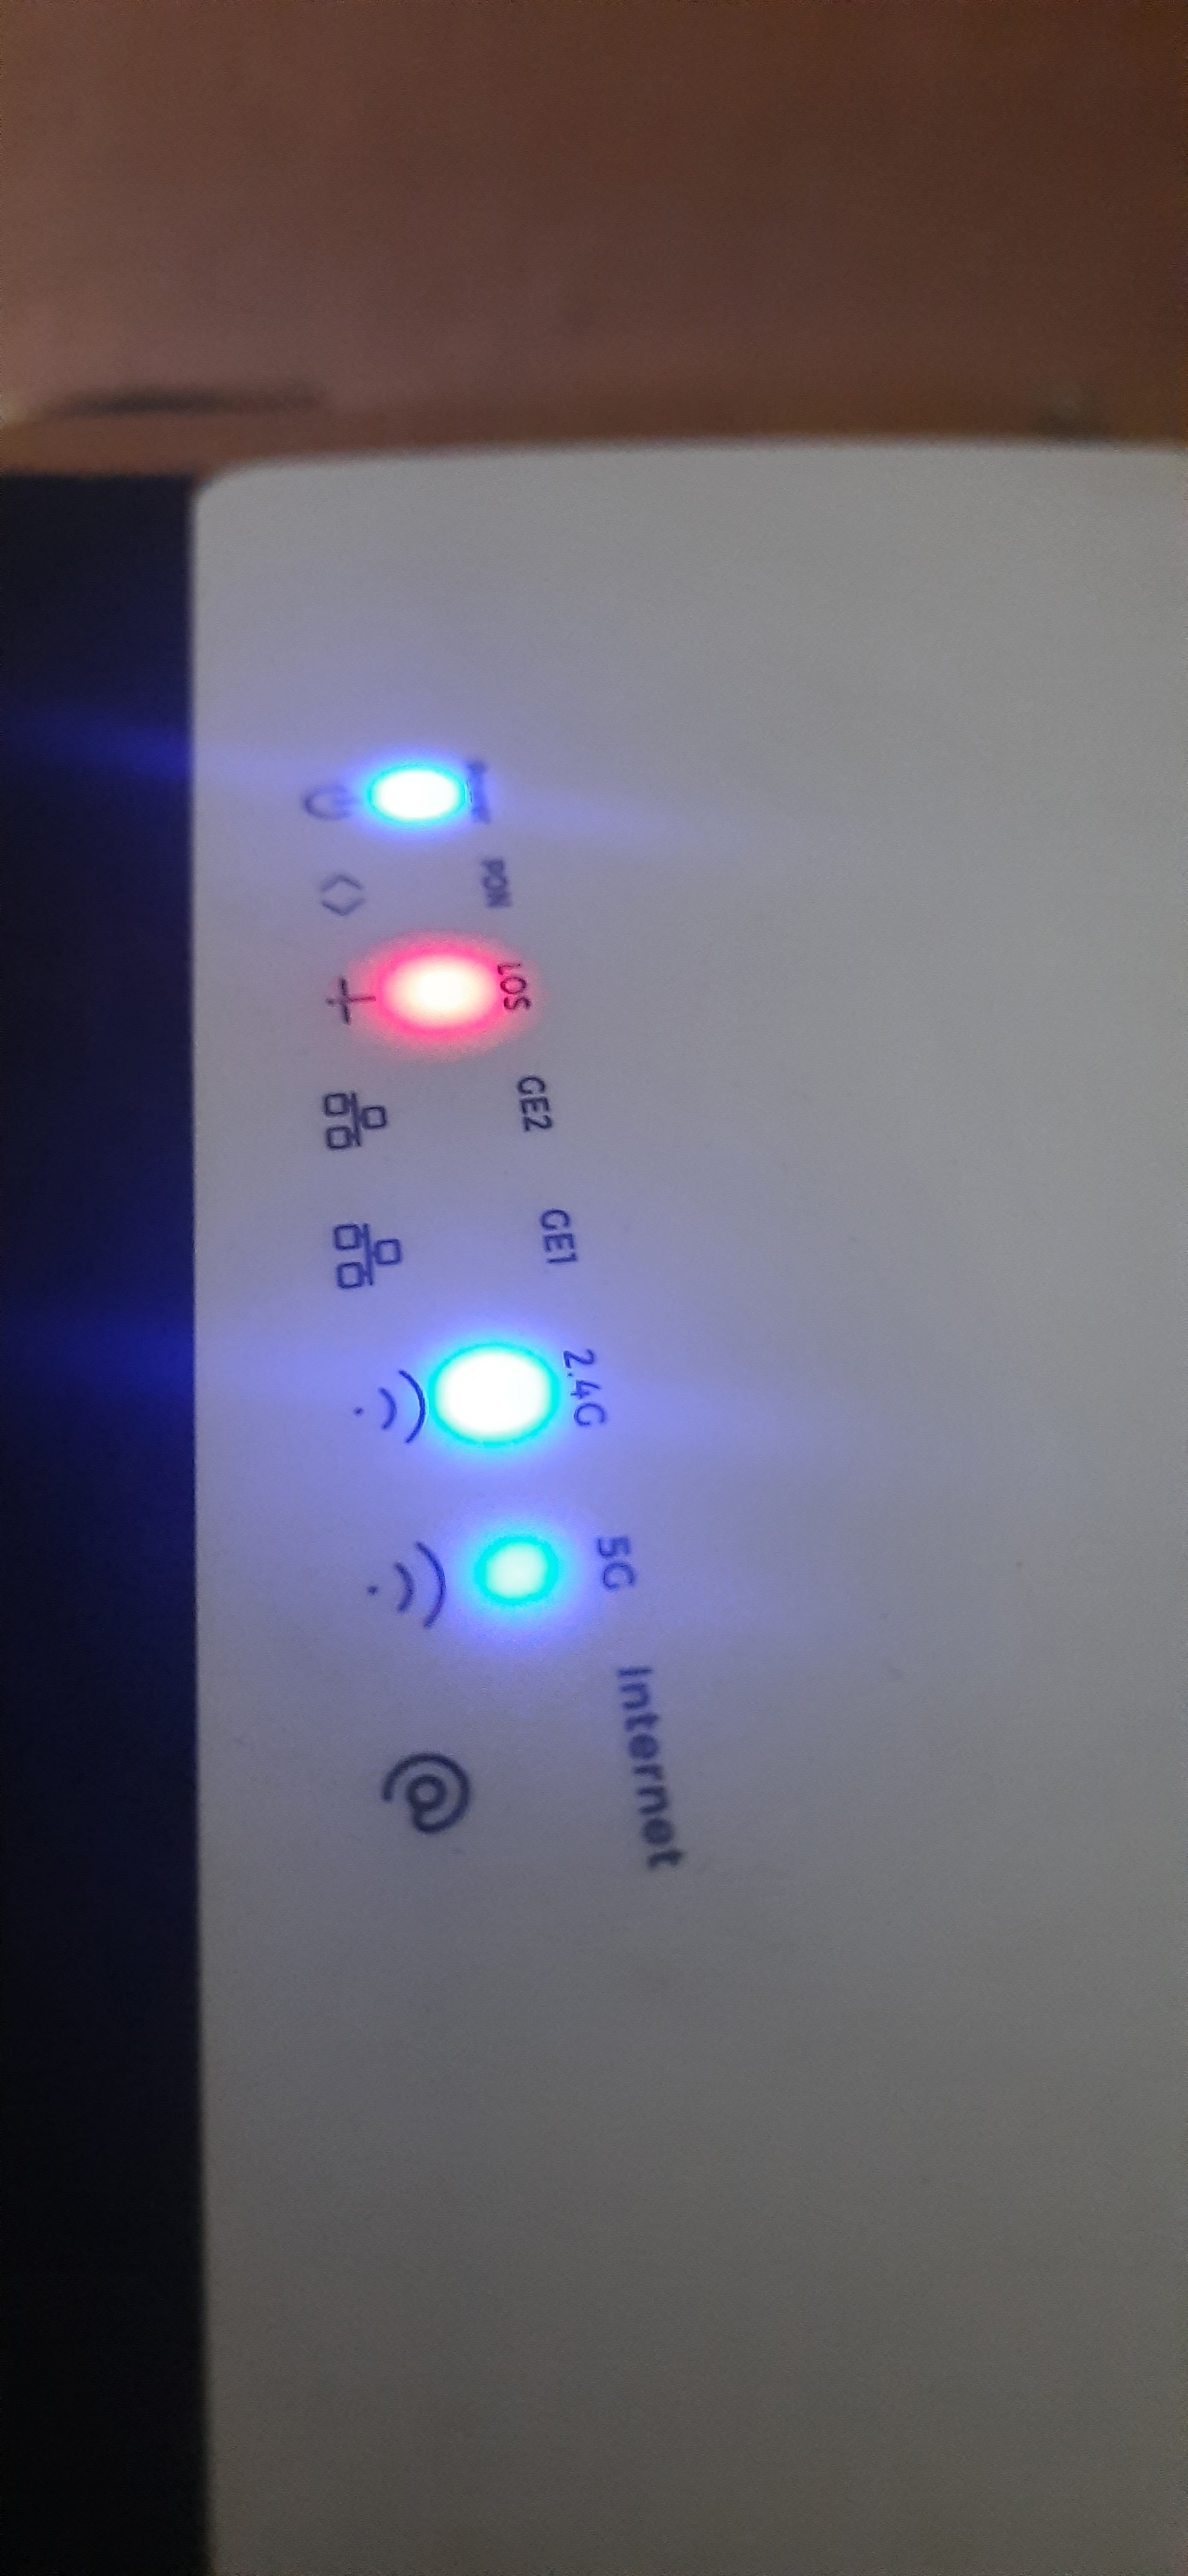LOSConnectionIssue: (265, 936, 679, 1061)
